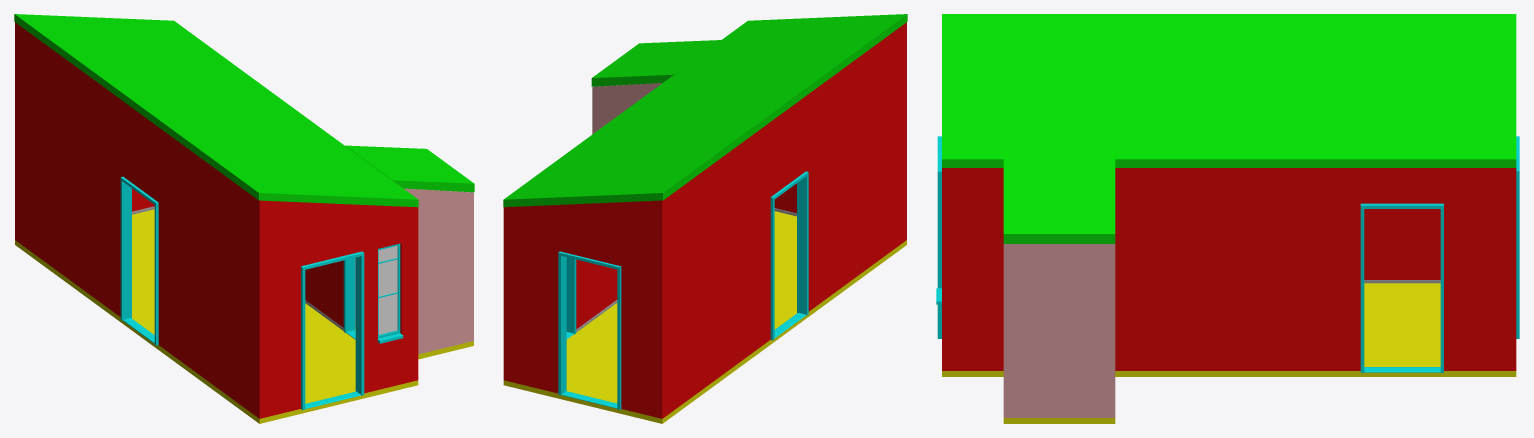
Rendered from FloorPlan524_physics.fbx.
3 views of the same model, side by side, from view 1: azimuth 30°, elevation 25°; view 2: azimuth 150°, elevation 25°; view 3: azimuth 270°, elevation 25° (orthographic). The views are drawn at different scales.
Visible parts, largest first — view 1: FP524:Walls_1, FP524:Ceiling_1, FP524:Walls_2, FP524:Floor_1, FP524:Ceiling_2, FP524:DoorFrame_4, FP524:DoorFrame_1, FP524:WindowPane_1, FP524:DoorFrame_5, FP524:WindowFrame_1; view 2: FP524:Walls_1, FP524:Ceiling_1, FP524:Floor_1, FP524:Ceiling_2, FP524:DoorFrame_4, FP524:DoorFrame_3, FP524:Walls_2, FP524:DoorFrame_2; view 3: FP524:Ceiling_1, FP524:Walls_1, FP524:Walls_2, FP524:Ceiling_2, FP524:Floor_1, FP524:DoorFrame_2, FP524:DoorFrame_1, FP524:DoorFrame_3, FP524:Floor_2.
Part boxes in pixels (box(x1,y1,x2,y2)): FP524:Walls_1: box(15, 22, 418, 418); FP524:Ceiling_1: box(14, 14, 418, 207); FP524:Walls_2: box(355, 188, 473, 354); FP524:Floor_1: box(15, 209, 418, 423); FP524:Ceiling_2: box(345, 145, 474, 192); FP524:DoorFrame_4: box(120, 176, 158, 345); FP524:DoorFrame_1: box(301, 251, 364, 409); FP524:WindowPane_1: box(378, 245, 397, 334); FP524:DoorFrame_5: box(343, 258, 355, 332); FP524:WindowFrame_1: box(377, 243, 403, 343); FP524:Walls_1: box(503, 22, 906, 418); FP524:Ceiling_1: box(503, 14, 907, 207); FP524:Floor_1: box(503, 211, 906, 423); FP524:Ceiling_2: box(591, 40, 720, 86); FP524:DoorFrame_4: box(770, 171, 808, 340); FP524:DoorFrame_3: box(558, 251, 621, 409); FP524:Walls_2: box(592, 83, 662, 134); FP524:DoorFrame_2: box(566, 257, 576, 334); FP524:Ceiling_1: box(942, 14, 1516, 167); FP524:Walls_1: box(942, 168, 1516, 370); FP524:Walls_2: box(1003, 244, 1115, 417); FP524:Ceiling_2: box(1003, 159, 1115, 243); FP524:Floor_1: box(942, 283, 1516, 376); FP524:DoorFrame_2: box(1360, 203, 1443, 372); FP524:DoorFrame_1: box(937, 136, 941, 338); FP524:DoorFrame_3: box(1516, 136, 1519, 338); FP524:Floor_2: box(1003, 418, 1115, 423).
Size of the model in its own units: 369 by 334 by 651.
